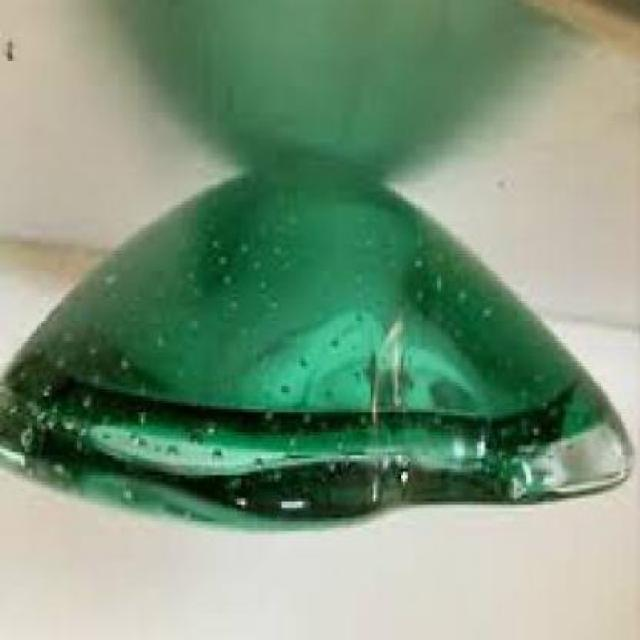GLASS: (0, 168, 631, 534)
